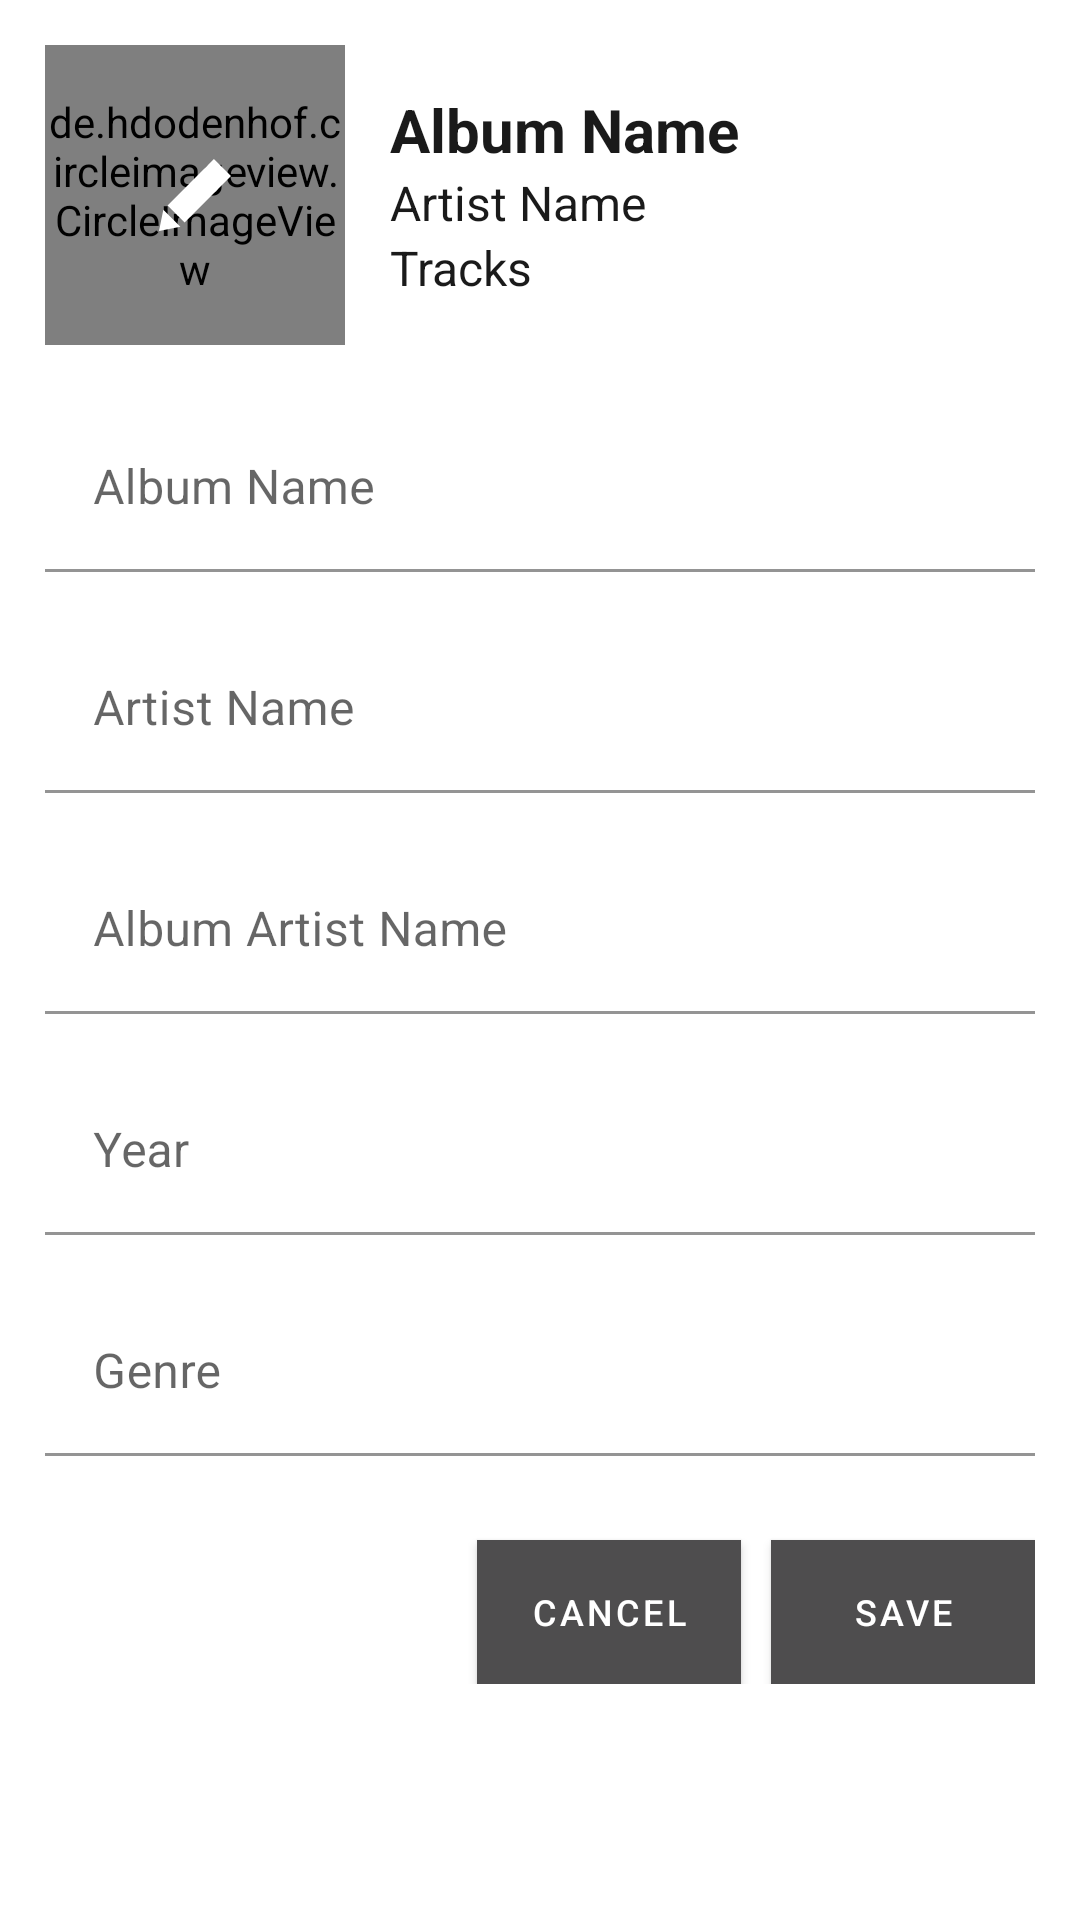

Point at icon controls on the screen. Image size 1080 × 1920, points as [x,y].
edit: [195,195]
